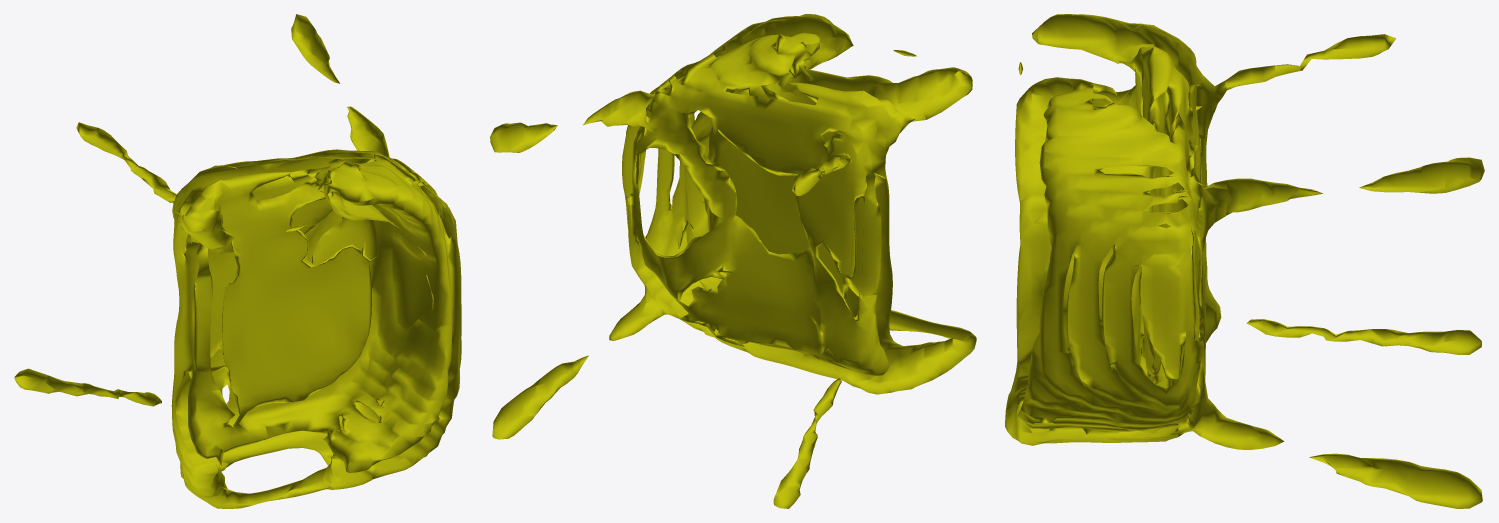
The picture shows the model from 3 angles, left to right: view 1: azimuth 30°, elevation 25°; view 2: azimuth 150°, elevation 25°; view 3: azimuth 270°, elevation 25°; orthographic projection. The views are drawn at different scales.
Parts seen in each view (by area): view 1: world; view 2: world; view 3: world.
Part boxes in pixels (x1,y1,x2,y2): world: (14, 14, 461, 508); world: (490, 14, 976, 508); world: (1005, 14, 1484, 508).
Size of the model in its own units: 32.36 by 32.17 by 39.56.
